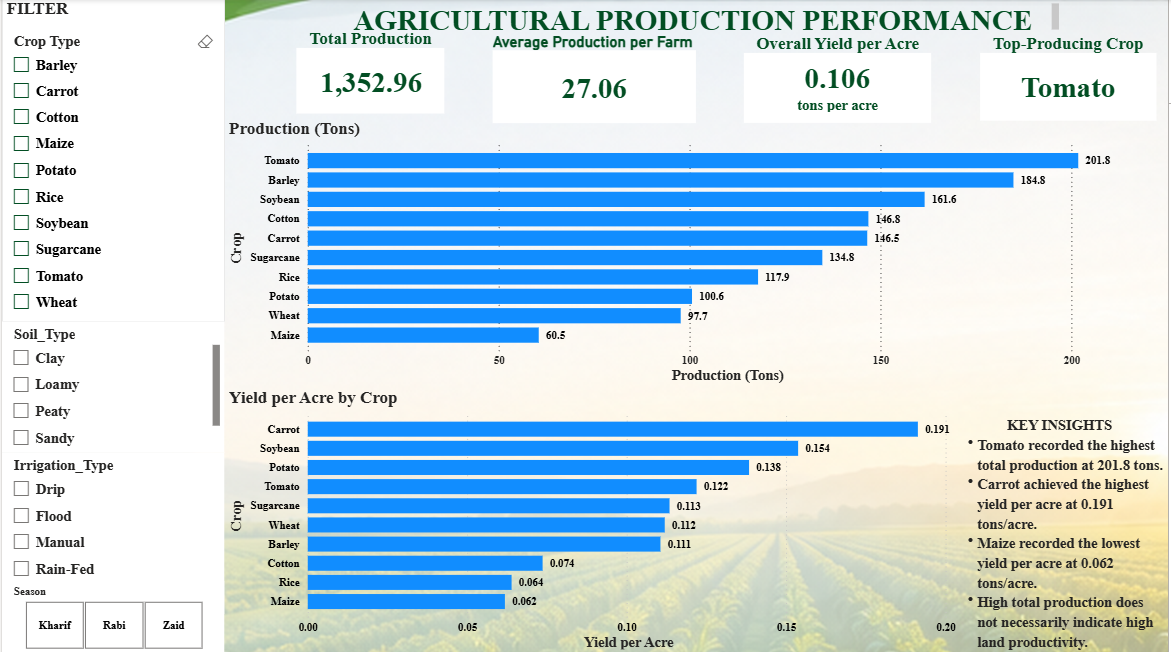

The page's visual inventory and layout, read from the dashboard file:
{"tool":"powerbi","page":{"name":"Page 1","canvas":[1280,720],"ordinal":0},"visuals":[{"type":"textbox","box":[359.5,0,805.5,42.5],"z":0},{"type":"cardVisual","title":"Total Production","fields":{"Data":["Sheet1.Total Production"]},"box":[318.4,32.9,172.9,98.8],"z":1000},{"type":"clusteredBarChart","title":"Production (Tons)","fields":{"Category":["Sheet1.Crop_Type"],"Y":["Sum(Sheet1.Yield(Tons))"]},"box":[244.3,131.7,1027.8,295],"z":2000},{"type":"slicer","title":"FILTER","fields":{"Values":["Sheet1.Crop_Type"]},"box":[0,0,244.3,354],"z":4000},{"type":"cardVisual","title":"Average Production per Farm","fields":{"Data":["Sheet1.Average Production per Farm"]},"box":[533.8,37,233.3,104.3],"z":5000},{"type":"cardVisual","title":"Overall Yield per Acre","fields":{"Data":["Sheet1.Overall Yield per Acre"]},"box":[809.6,38.4,215.4,102.9],"z":6000},{"type":"cardVisual","title":"Top-Producing Crop","fields":{"Data":["Sheet1.Top Producing Crop"]},"box":[1069,38.4,203.1,100.2],"z":7000},{"type":"slicer","fields":{"Values":["Sheet1.Soil_Type"]},"box":[0,354,244.3,130.4],"z":8000},{"type":"slicer","fields":{"Values":["Sheet1.Irrigation_Type"]},"box":[0,484.4,244.3,170.2],"z":9000},{"type":"slicer","fields":{"Values":["Sheet1.Season"]},"box":[0,654.5,244.3,65.9],"z":10000},{"type":"clusteredBarChart","title":"Yield per Acre by Crop","fields":{"Category":["Sheet1.Crop_Type"],"Y":["Sheet1.Overall Yield per Acre"]},"box":[244.3,426.8,812.4,292.3],"z":11000},{"type":"textbox","box":[1041.5,454.2,238.8,266.2],"z":12000}]}

Visuals, with their boxes in screenshot pixels (x1, y1, x2, y2), scaled from the page's 1280x720 canvas onto the 1171x652 screenshot:
textbox: bbox=[329, 0, 1066, 38]
"Total Production" cardVisual: bbox=[291, 30, 449, 119]
"Production (Tons)" clusteredBarChart: bbox=[223, 119, 1164, 386]
"FILTER" slicer: bbox=[0, 0, 223, 321]
"Average Production per Farm" cardVisual: bbox=[488, 34, 702, 128]
"Overall Yield per Acre" cardVisual: bbox=[741, 35, 938, 128]
"Top-Producing Crop" cardVisual: bbox=[978, 35, 1164, 126]
slicer - Sheet1.Soil_Type: bbox=[0, 321, 223, 439]
slicer - Sheet1.Irrigation_Type: bbox=[0, 439, 223, 593]
slicer - Sheet1.Season: bbox=[0, 593, 223, 651]
"Yield per Acre by Crop" clusteredBarChart: bbox=[223, 386, 967, 651]
textbox: bbox=[953, 411, 1170, 651]
